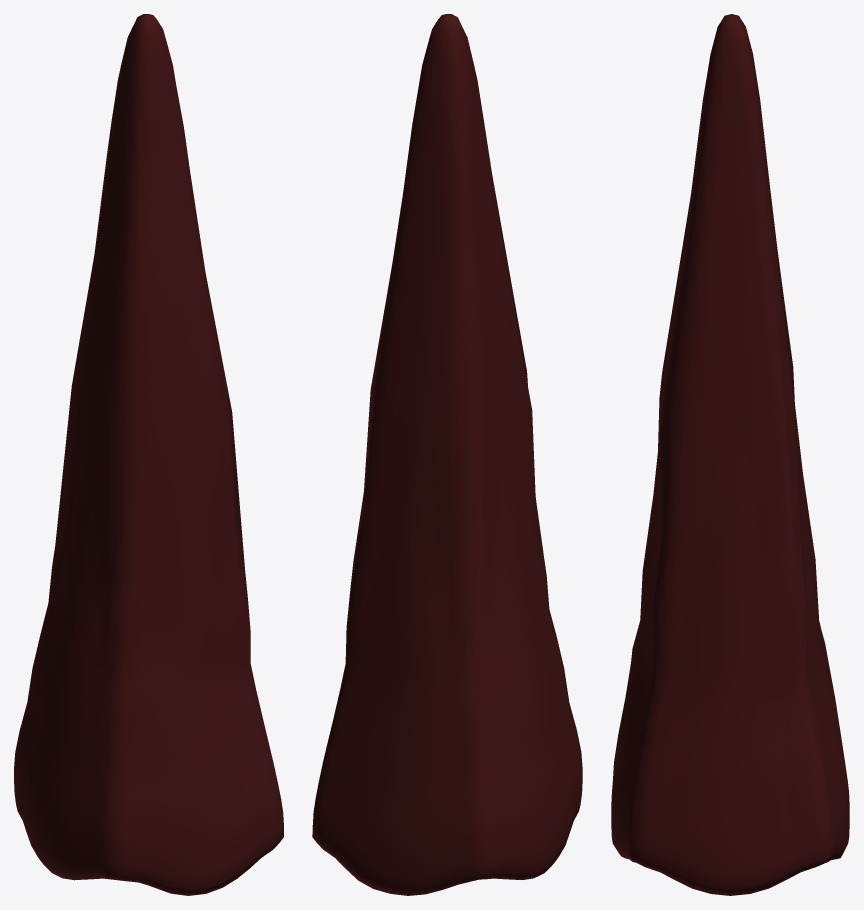
File: Piedras Puntiagudas.fbx
The picture shows the model from 3 angles, left to right: view 1: azimuth 30°, elevation 25°; view 2: azimuth 150°, elevation 25°; view 3: azimuth 270°, elevation 25°; orthographic projection.
Visible parts, largest first — view 1: pCube1; view 2: pCube1; view 3: pCube1.
Boxes of the visible parts, box(x1,y1,x2,y2) form: pCube1: box(14, 14, 283, 895); pCube1: box(312, 14, 582, 895); pCube1: box(611, 14, 849, 895).
Bounding box in the file's own units: 1.44 × 5.55 × 1.44.
